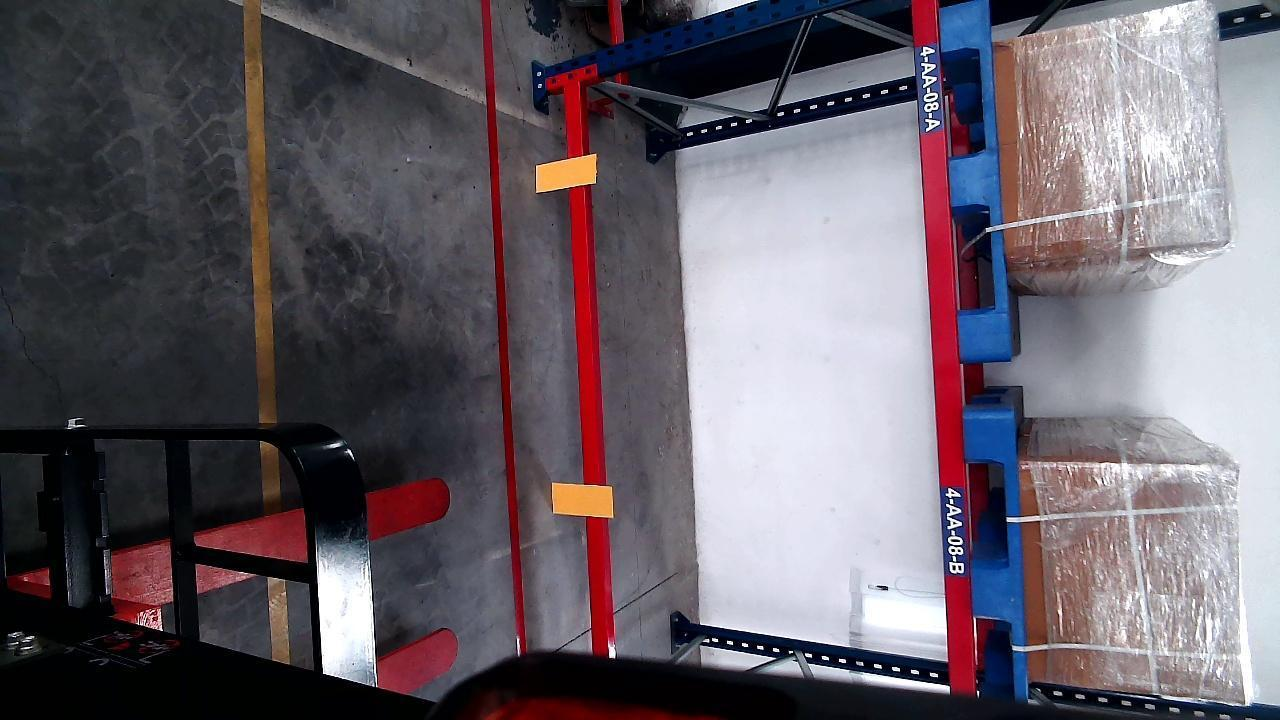h_rack: (915, 0, 973, 690), (565, 84, 611, 650)
orange_strip: (534, 153, 596, 192), (550, 481, 613, 517)
red_line: (476, 0, 527, 649)
small_pallet: (944, 0, 1013, 361), (968, 412, 1026, 689)
yellow_line: (245, 2, 276, 417)
